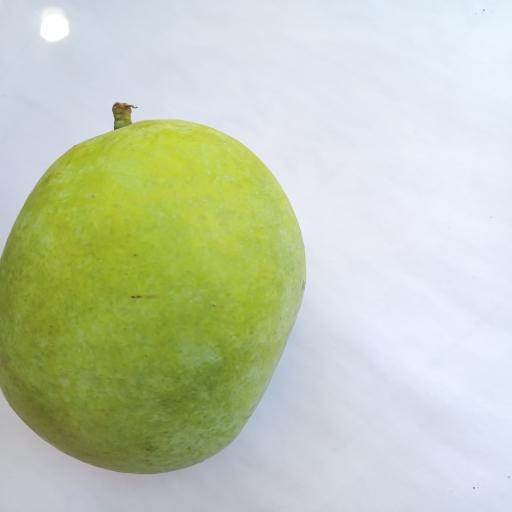mango-unripe: (0, 86, 336, 482)
